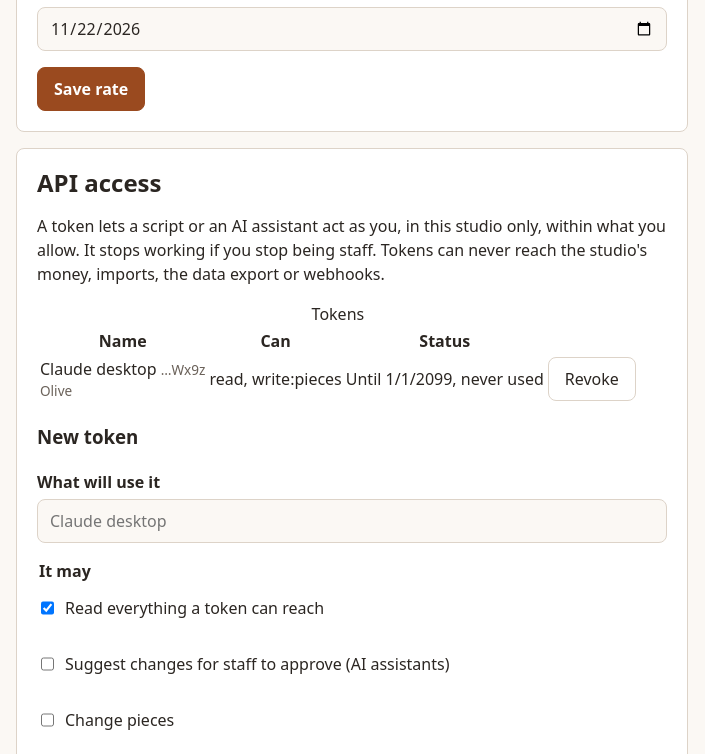
it: API access › revokes a token
The width and height of the screenshot is (705, 754).
(page scrolled)
Click the button "Revoke".
click(592, 379)  # box [548,357,636,401]
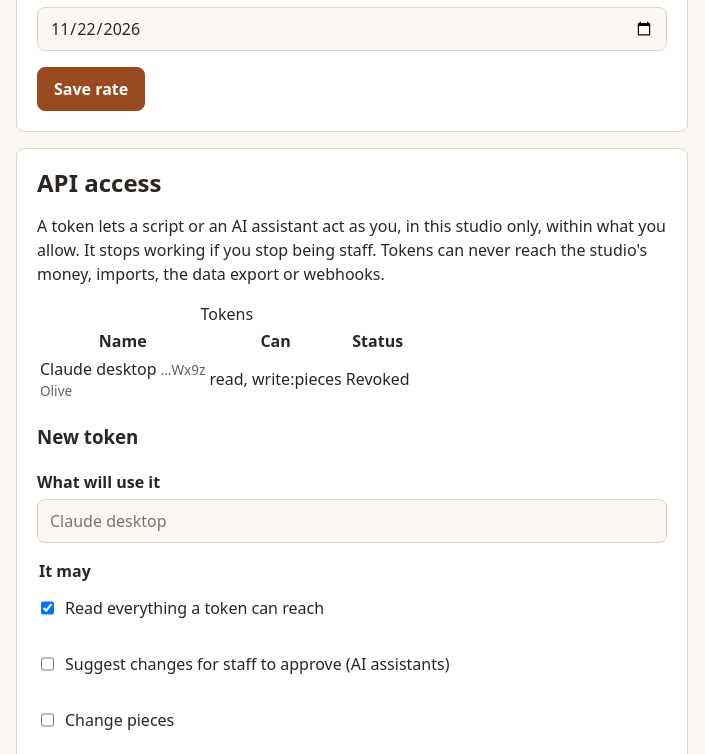
Expected: the text "Revoked" is shown, [345,356,411,402]
